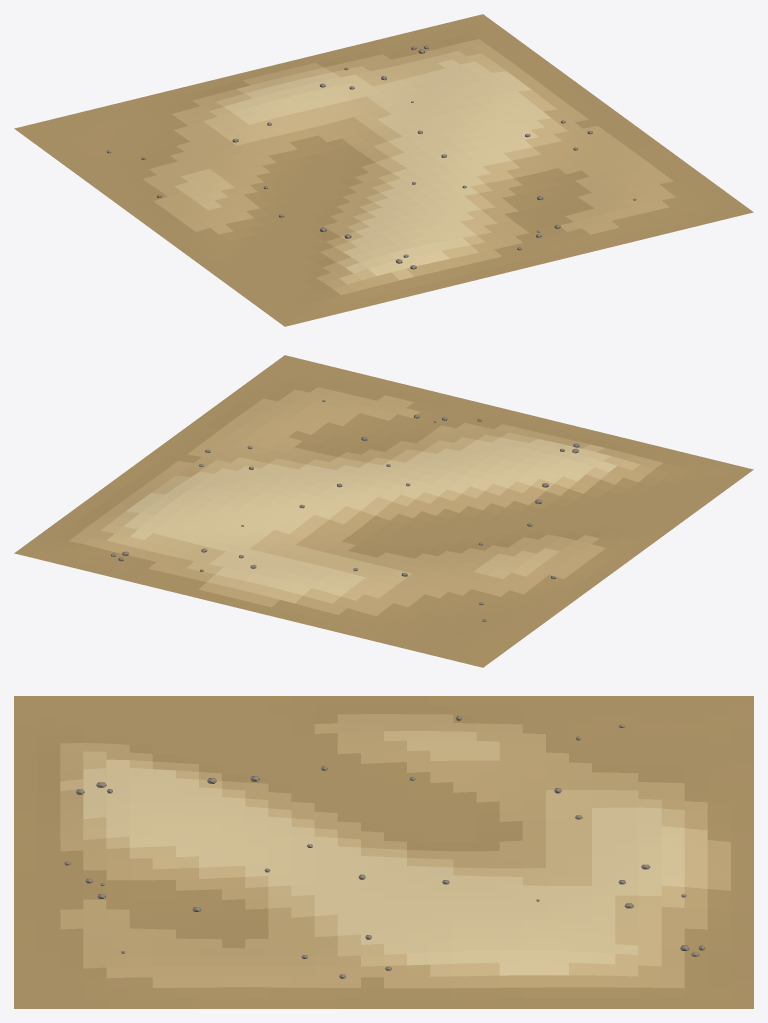
File: suelo-arena-arena-plana-b.glb
The picture shows the model from 3 angles, top to bottom: view 1: azimuth 30°, elevation 25°; view 2: azimuth 150°, elevation 25°; view 3: azimuth 270°, elevation 25°; orthographic projection. The views are drawn at different scales.
Parts seen in each view (by area): view 1: arena_plana_b_ArenaHuella, arena_plana_b_ArenaOscura, arena_plana_b_ArenaClara, arena_plana_b_ArenaMedia, arena_plana_b_Guijarro; view 2: arena_plana_b_ArenaHuella, arena_plana_b_ArenaOscura, arena_plana_b_ArenaClara, arena_plana_b_ArenaMedia, arena_plana_b_Guijarro; view 3: arena_plana_b_ArenaHuella, arena_plana_b_ArenaOscura, arena_plana_b_ArenaClara, arena_plana_b_ArenaMedia, arena_plana_b_Guijarro.
Boxes of the visible parts, <box> form: arena_plana_b_ArenaHuella: <box>14,14,753,326</box>; arena_plana_b_ArenaOscura: <box>143,39,675,295</box>; arena_plana_b_ArenaClara: <box>224,59,550,275</box>; arena_plana_b_ArenaMedia: <box>174,51,567,284</box>; arena_plana_b_Guijarro: <box>106,45,636,269</box>; arena_plana_b_ArenaHuella: <box>14,355,753,667</box>; arena_plana_b_ArenaOscura: <box>69,387,662,616</box>; arena_plana_b_ArenaClara: <box>124,437,616,596</box>; arena_plana_b_ArenaMedia: <box>100,432,640,603</box>; arena_plana_b_Guijarro: <box>111,400,579,621</box>; arena_plana_b_ArenaHuella: <box>14,696,753,1008</box>; arena_plana_b_ArenaOscura: <box>60,714,730,988</box>; arena_plana_b_ArenaClara: <box>83,759,684,975</box>; arena_plana_b_ArenaMedia: <box>60,731,707,976</box>; arena_plana_b_Guijarro: <box>64,716,705,978</box>.
Bounding box in the file's own units: 8 × 0.1597 × 8.
